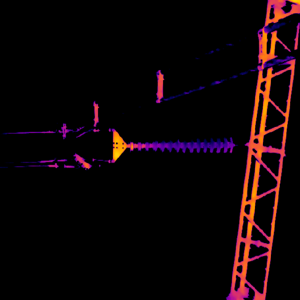insulator: (126, 135, 234, 153)
